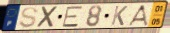8: (85, 5, 103, 28)
A: (126, 4, 150, 27)
E: (61, 5, 84, 28)
K: (110, 5, 129, 27)
S: (18, 6, 40, 29)
X: (36, 5, 60, 29)
